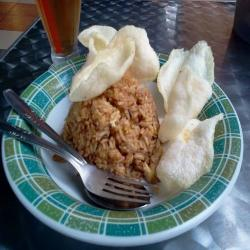rice: (54, 73, 166, 194)
